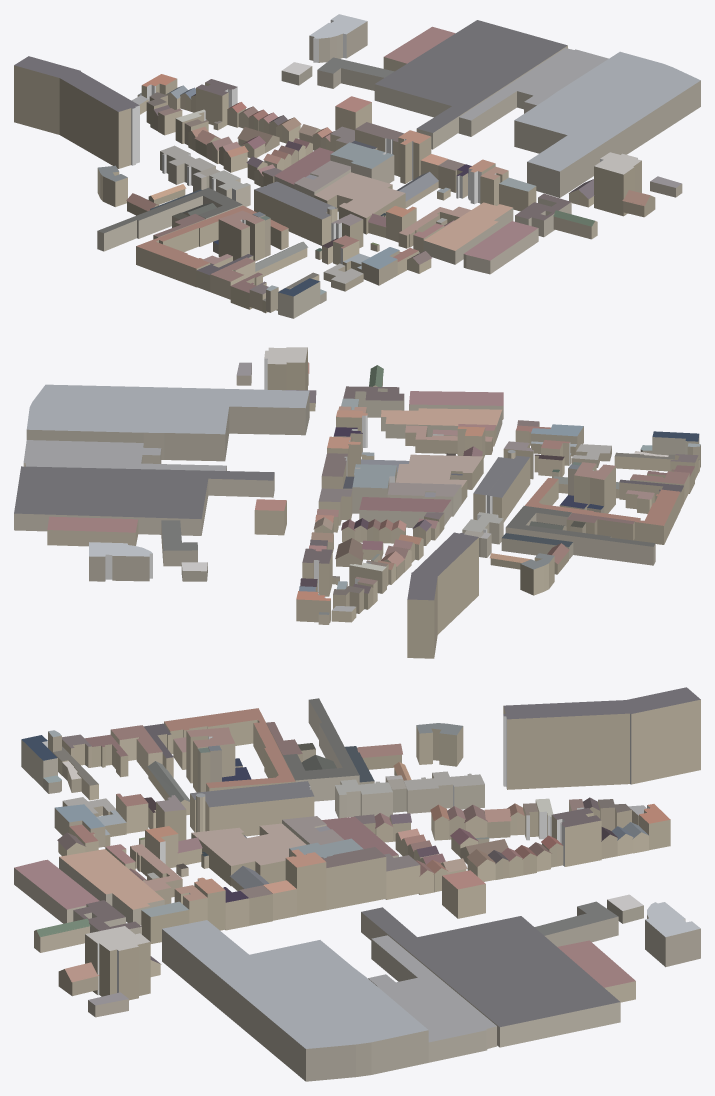
3 views of the same model, one above another, from view 1: azimuth 30°, elevation 25°; view 2: azimuth 150°, elevation 25°; view 3: azimuth 270°, elevation 25° (orthographic). The views are drawn at different scales.
Parts seen in each view (by area): view 1: tuile; view 2: tuile; view 3: tuile.
Boxes of the visible parts, x1,y1,x2,y2 form: tuile: [14, 14, 700, 318]; tuile: [14, 347, 700, 658]; tuile: [14, 687, 700, 1081].
Size of the model in its own units: 330 by 33.24 by 266.
